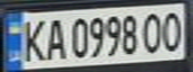0: (66, 13, 90, 60)
8: (121, 11, 142, 56)
9: (103, 11, 124, 57), (87, 12, 106, 59)
A: (42, 15, 69, 62)
K: (18, 16, 48, 63)
O: (139, 9, 166, 55), (160, 8, 187, 53)
